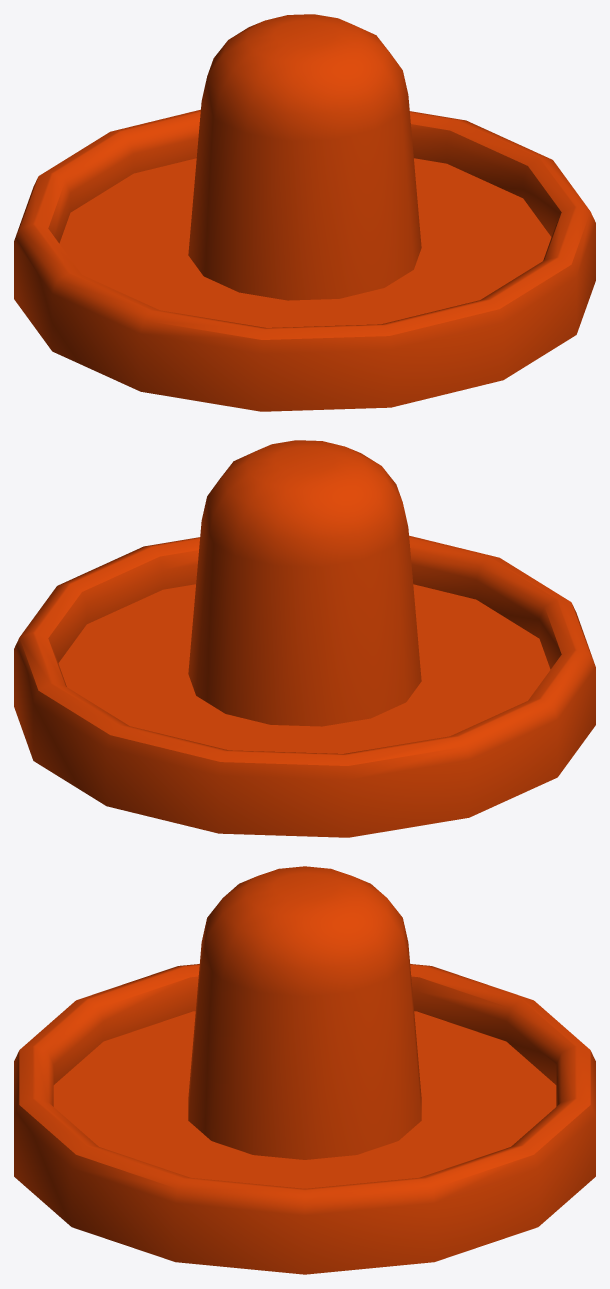
The model's file is Air Hockey Stick_2.fbx.
3 views of the same model, one above another, from view 1: azimuth 30°, elevation 25°; view 2: azimuth 150°, elevation 25°; view 3: azimuth 270°, elevation 25° (orthographic). The views are drawn at different scales.
Parts seen in each view (by area): view 1: Air Hockey Stick_2; view 2: Air Hockey Stick_2; view 3: Air Hockey Stick_2.
Boxes of the visible parts, x1,y1,x2,y2 form: Air Hockey Stick_2: (14,14,595,411); Air Hockey Stick_2: (14,440,595,837); Air Hockey Stick_2: (14,866,595,1274).
Size of the model in its own units: 0.1205 by 0.0583 by 0.1174.
